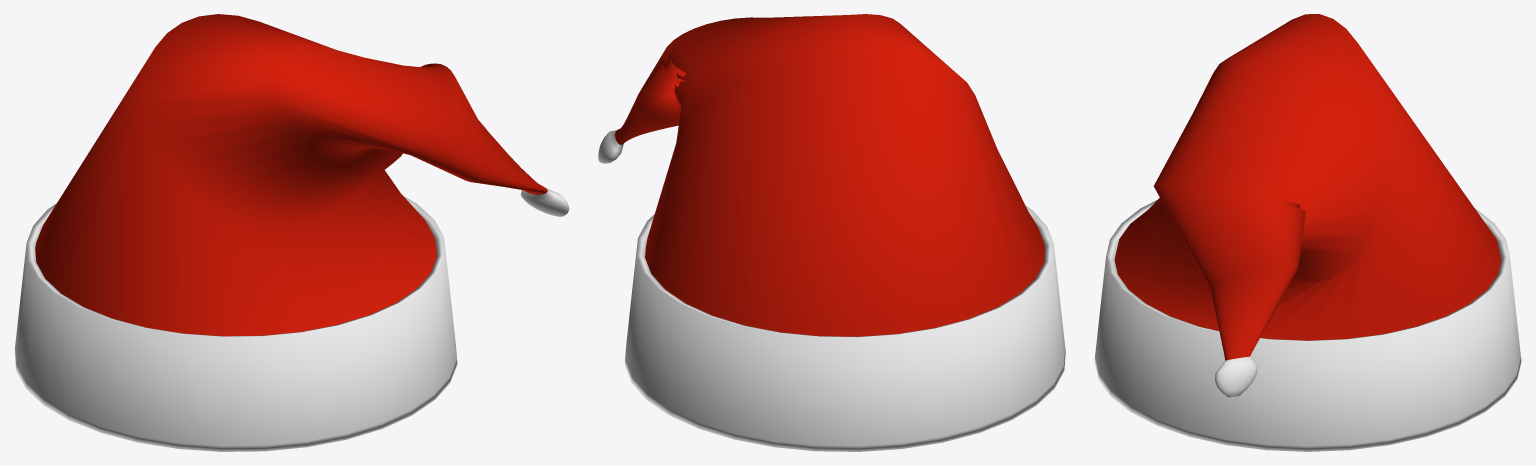
Rendered from santa_hat.dae.
The picture shows the model from 3 angles, left to right: view 1: azimuth 30°, elevation 25°; view 2: azimuth 150°, elevation 25°; view 3: azimuth 270°, elevation 25°; orthographic projection. The views are drawn at different scales.
Visible parts, largest first — view 1: santa_hat; view 2: santa_hat; view 3: santa_hat.
Boxes of the visible parts, box(x1,y1,x2,y2) form: santa_hat: box(14, 14, 569, 451); santa_hat: box(598, 14, 1065, 451); santa_hat: box(1094, 14, 1521, 451).
Size of the model in its own units: 1.09 by 0.8706 by 0.7123.
